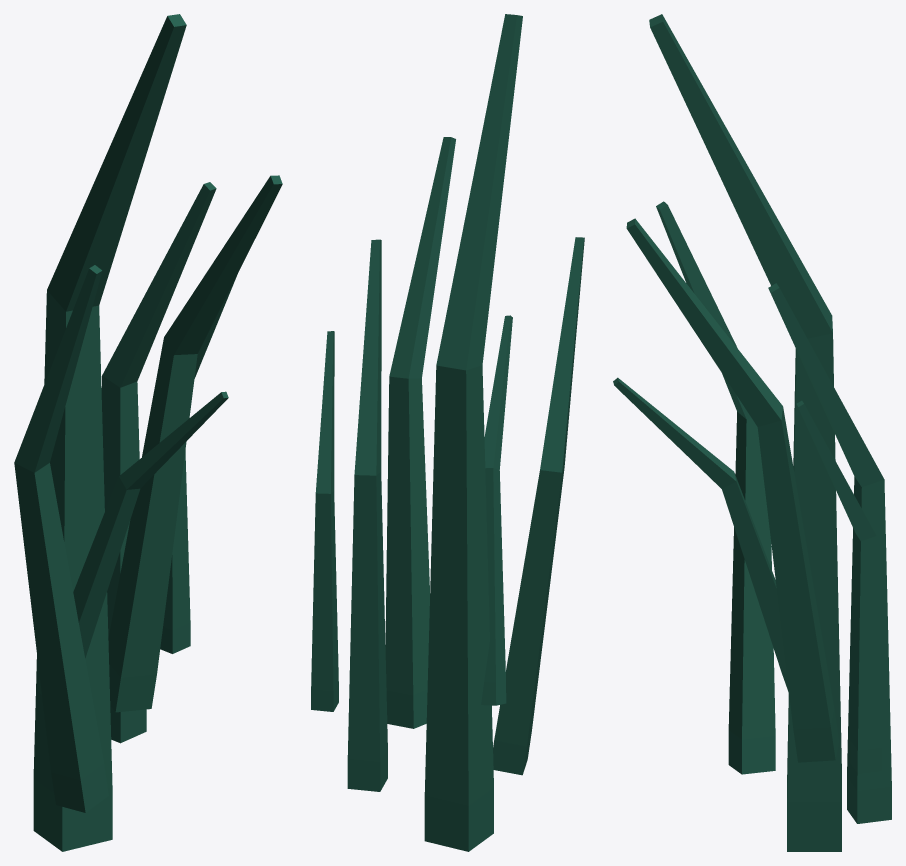
File: GrassTuft.obj
3 renders of one model, left to right at view 1: azimuth 30°, elevation 25°; view 2: azimuth 150°, elevation 25°; view 3: azimuth 270°, elevation 25°, orthographic. The views are drawn at different scales.
Visible parts, largest first — view 1: GrassTuft_Cube.025; view 2: GrassTuft_Cube.025; view 3: GrassTuft_Cube.025.
Part boxes in pixels (x1,y1,x2,y2): GrassTuft_Cube.025: (14, 14, 282, 851); GrassTuft_Cube.025: (311, 14, 584, 851); GrassTuft_Cube.025: (613, 14, 891, 851).
Size of the model in its own units: 1.16 by 3.94 by 1.2.
